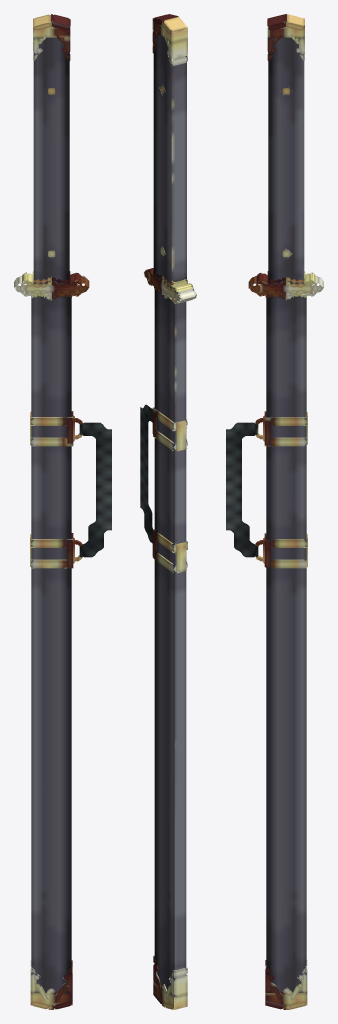
Rendered from uchigatana_sheath_alter.obj.
3 views of the same model, side by side, from view 1: azimuth 90°, elevation 25°; view 2: azimuth 210°, elevation 25°; view 3: azimuth 270°, elevation 25° (orthographic).
Parts seen in each view (by area): view 1: cube.170; view 2: cube.170; view 3: cube.170.
Part boxes in pixels (left/top/right/bottom): cube.170: left=14, top=14, right=111, bottom=1009; cube.170: left=140, top=14, right=196, bottom=1009; cube.170: left=226, top=14, right=323, bottom=1009.
Size of the model in its own units: 0.0452 by 2.51 by 0.2251.
